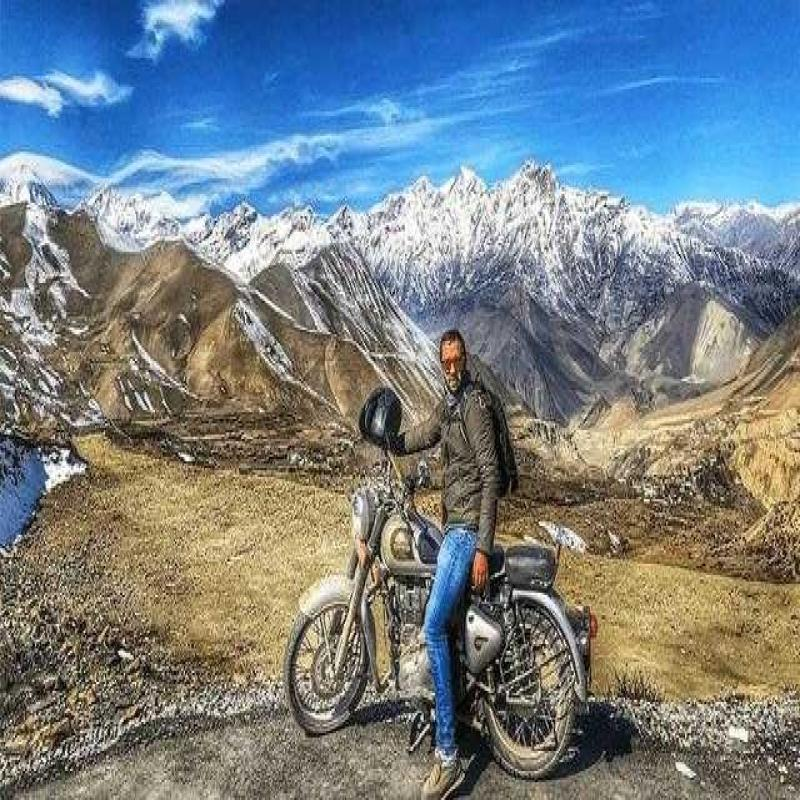bike: (274, 347, 590, 770)
